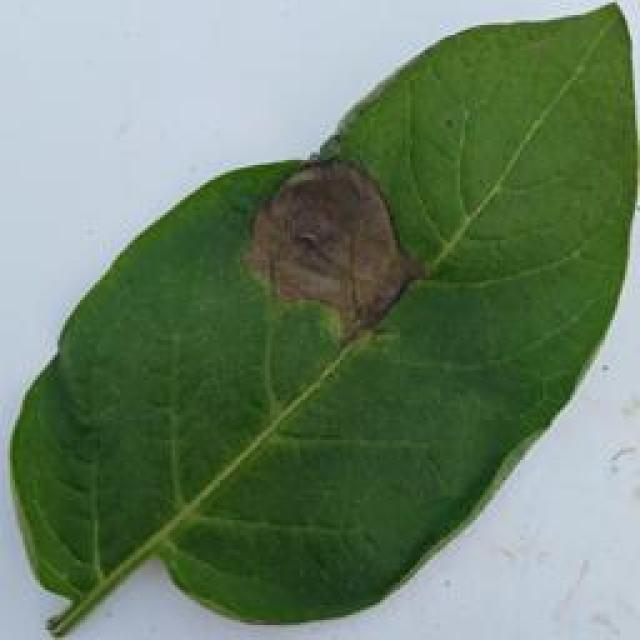Potato_Late_Blight: (3, 4, 636, 632)
